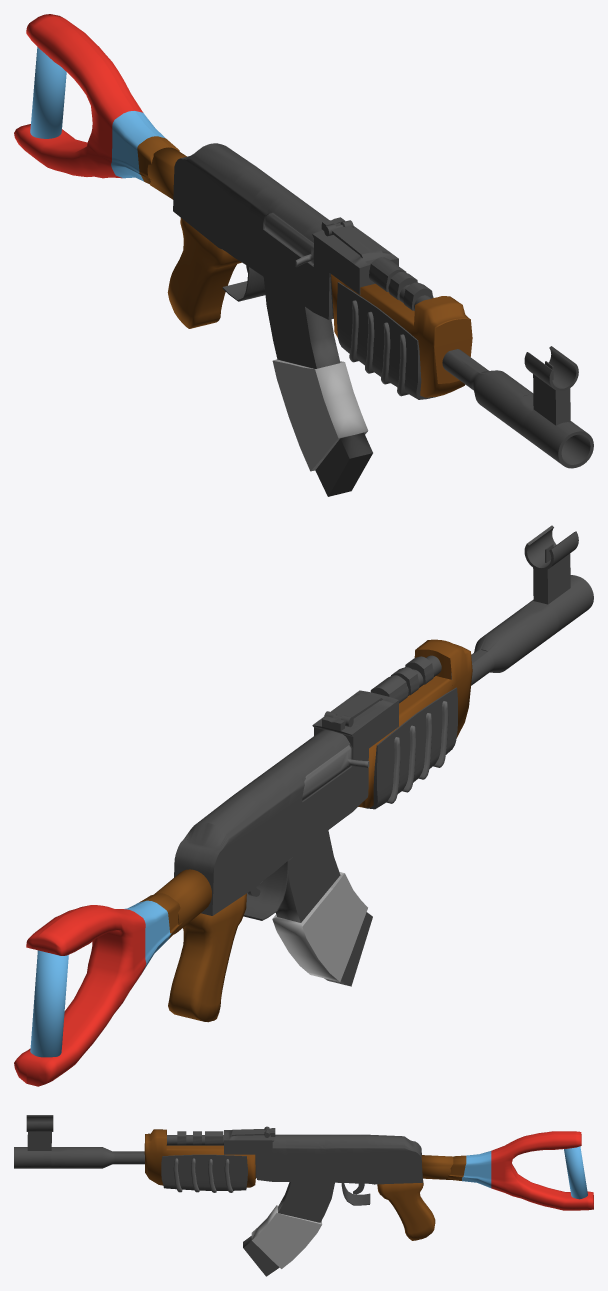
3 renders of one model, top to bottom at view 1: azimuth 30°, elevation 25°; view 2: azimuth 150°, elevation 25°; view 3: azimuth 270°, elevation 25°, orthographic. The views are drawn at different scales.
Visible parts, largest first — view 1: Cube.001; view 2: Cube.001; view 3: Cube.001.
Part boxes in pixels (box(x1,y1,x2,y2)): Cube.001: box(14, 14, 593, 496); Cube.001: box(14, 525, 593, 1086); Cube.001: box(14, 1115, 593, 1276).
Size of the model in its own units: 0.5714 by 2.69 by 9.09.
